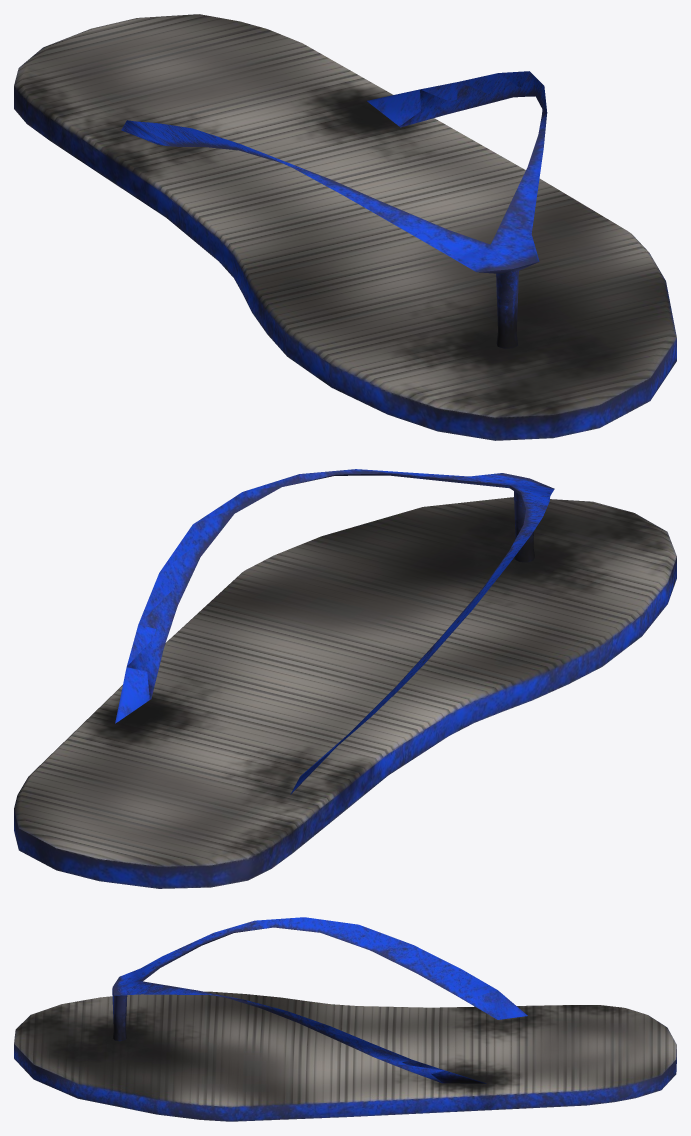
Rendered from Shoes_003_Slipper_Right.obj.
3 renders of one model, top to bottom at view 1: azimuth 30°, elevation 25°; view 2: azimuth 150°, elevation 25°; view 3: azimuth 270°, elevation 25°, orthographic. The views are drawn at different scales.
Visible parts, largest first — view 1: Slipper_Right; view 2: Slipper_Right; view 3: Slipper_Right.
Boxes of the visible parts, x1,y1,x2,y2 form: Slipper_Right: (14, 14, 676, 440); Slipper_Right: (14, 469, 676, 888); Slipper_Right: (14, 917, 676, 1121).
Bounding box in the file's own units: 0.1211 × 0.0495 × 0.298.
